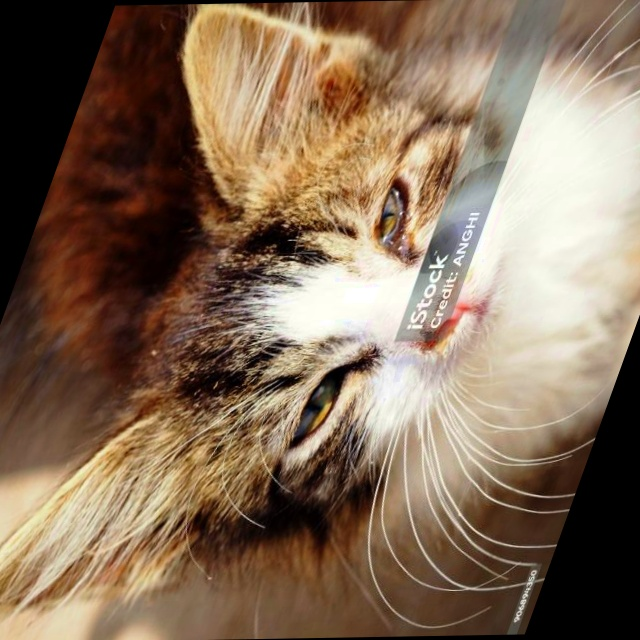eye_infection: (365, 182, 429, 254)
